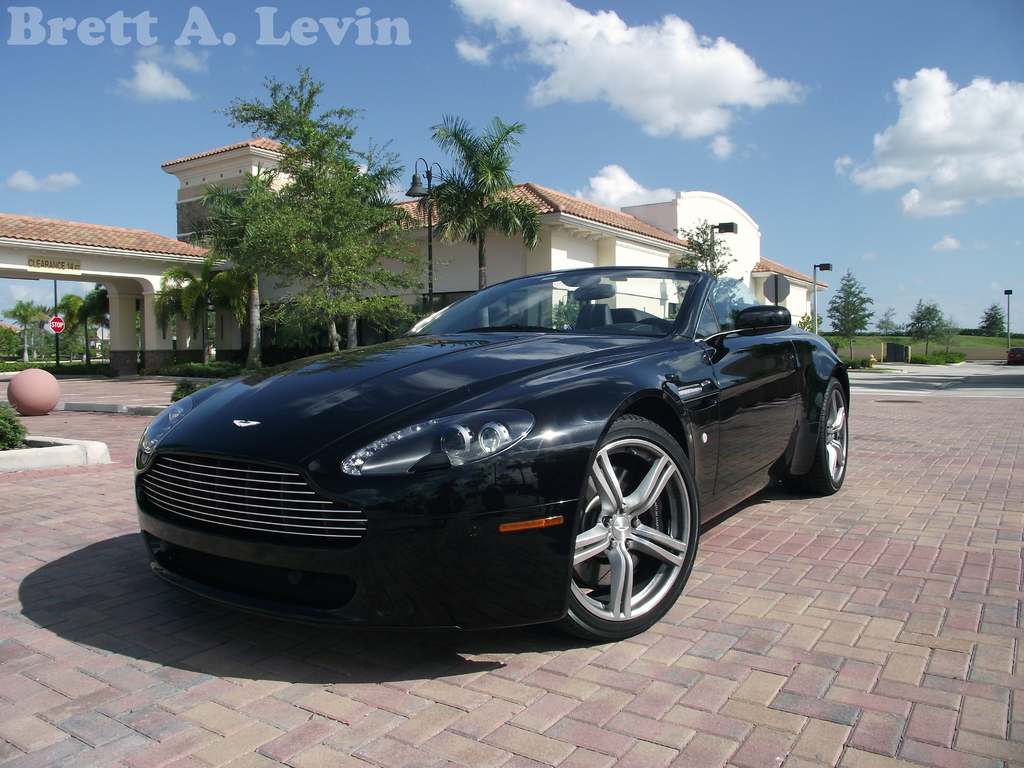Tree: (0, 64, 543, 449), (673, 215, 743, 334), (795, 267, 876, 356), (908, 299, 960, 363), (980, 300, 1013, 340), (878, 306, 907, 339)
